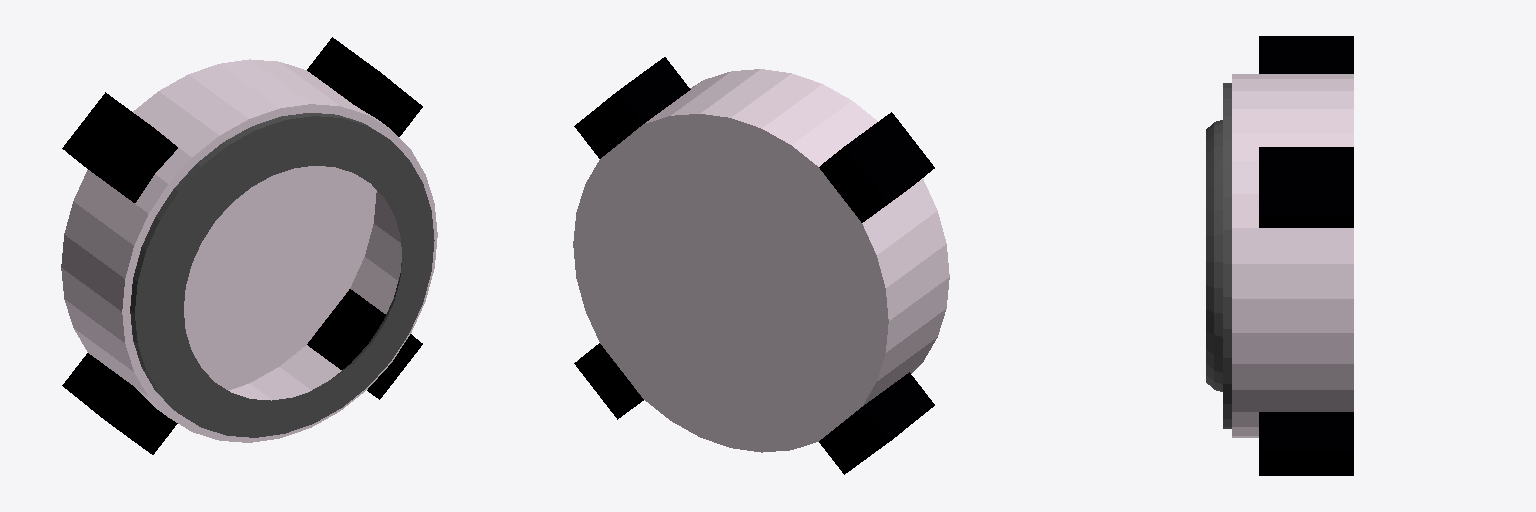
Rendered from walls.obj.
3 renders of one model, left to right at view 1: azimuth 30°, elevation 25°; view 2: azimuth 150°, elevation 25°; view 3: azimuth 270°, elevation 25°, orthographic.
Parts seen in each view (by area): view 1: walls; view 2: walls; view 3: walls.
Part boxes in pixels (x1,y1,x2,y2): walls: (61, 37, 437, 454); walls: (573, 57, 949, 474); walls: (1206, 36, 1353, 475).
Bounding box in the file's own units: 20 × 20 × 8.13.